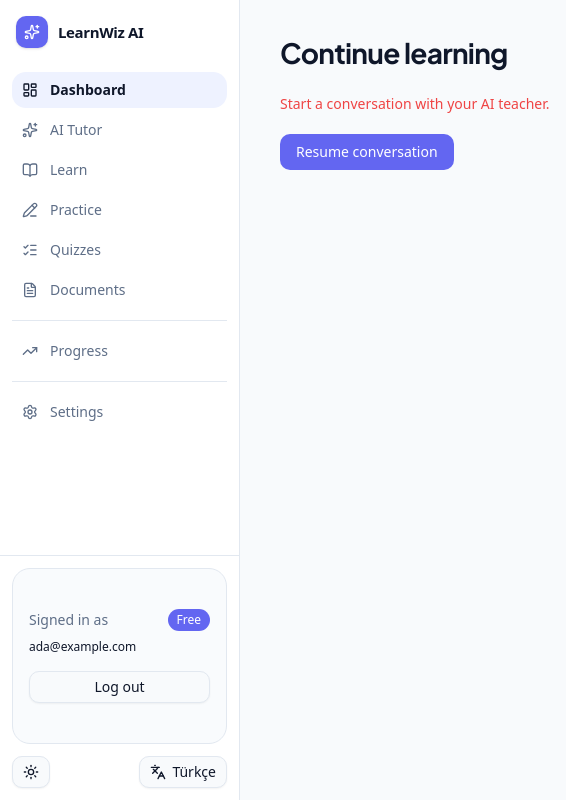
Test: PlanCard identity states › shows the signed-in user with a logout action when authenticated
The image size is (566, 800).
Expected: the text "ada@example.com" is shown, [29,638,136,655]
What coordinates should you click on to do the following:
click the button "Log out"
I would click on:
 (120, 687)
Its box is [29,671,210,703].
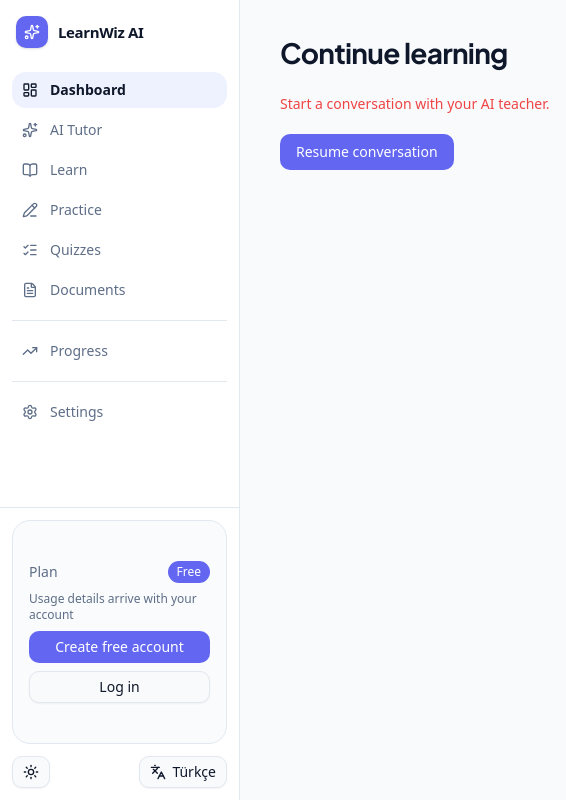
Result: the link "Create free account" is shown at [29,631,210,663]
